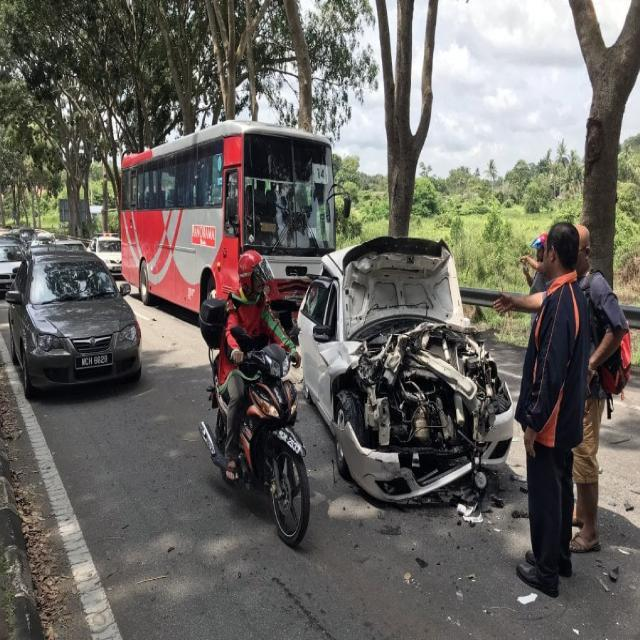accident: (295, 229, 515, 566)
non-accident: (87, 119, 337, 331), (9, 234, 141, 408)
